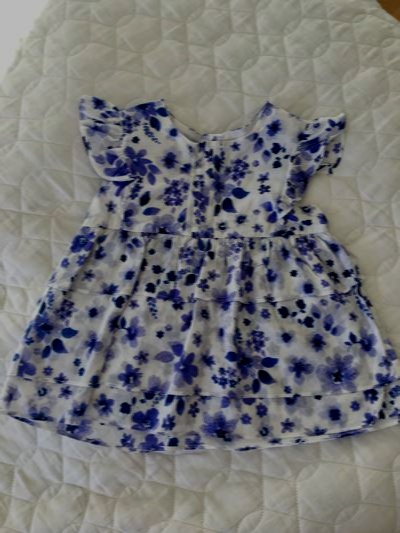Dress: (27, 73, 382, 441)
